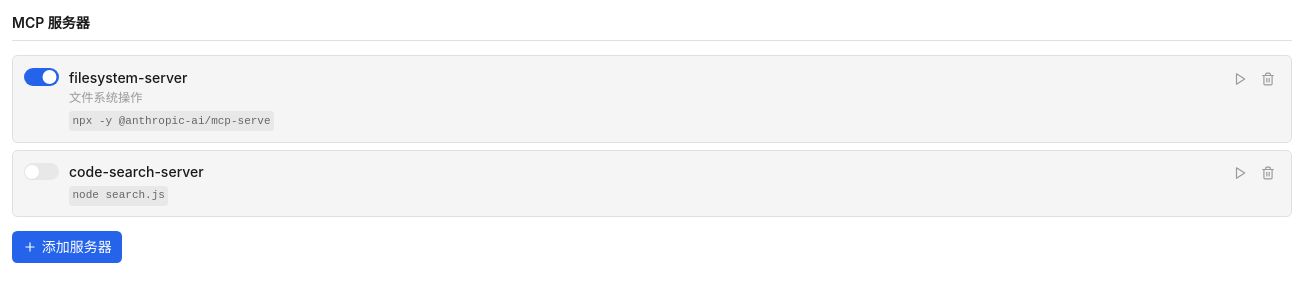
it: McpTab › tests connection and shows success with tool count
Expected: the text "filesystem-server" is shown, [69, 66, 187, 88]
What coordinates should you click on to do the following:
click the button titled "测试连接" in the row of "filesystem-server"
I would click on:
 (1240, 79)
Its box is [1228, 66, 1252, 91].
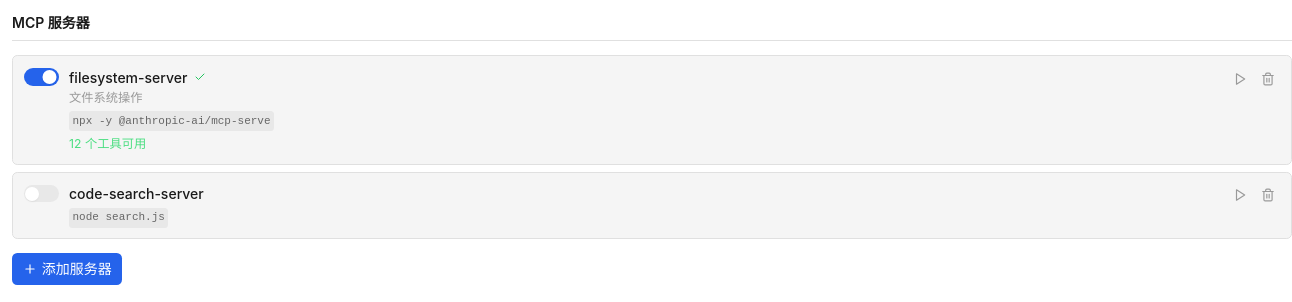
Expected: the text "12 个工具可用" is shown, [69, 136, 146, 151]
